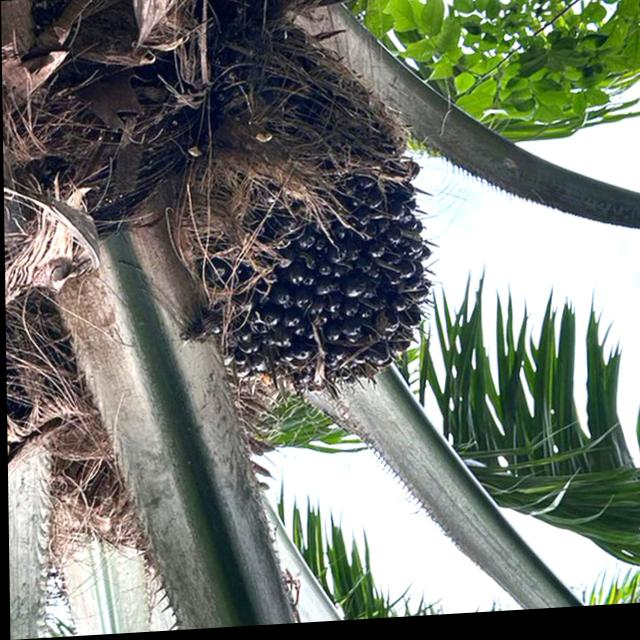almost: (176, 94, 447, 418)
